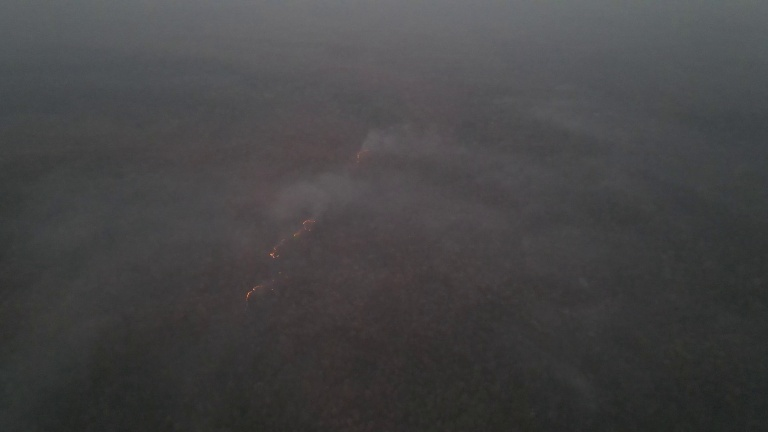fire: (268, 217, 316, 259), (240, 280, 272, 306), (353, 148, 365, 164)
smoke: (275, 174, 365, 221), (365, 127, 400, 146)
